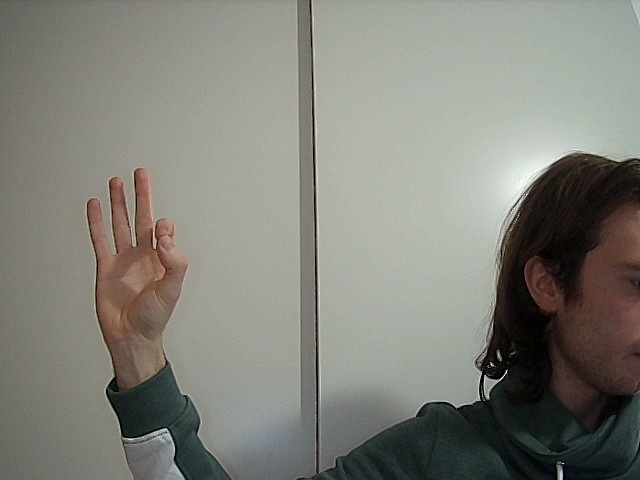f: (69, 158, 212, 339)
